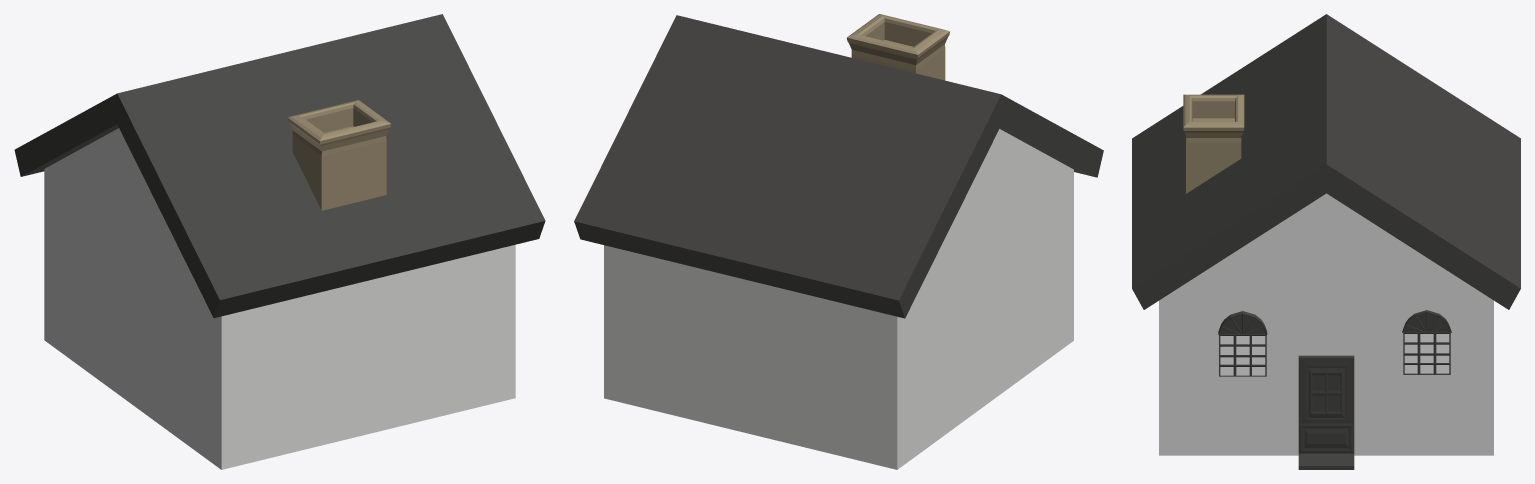
The model's file is House5.fbx.
3 renders of one model, left to right at view 1: azimuth 30°, elevation 25°; view 2: azimuth 150°, elevation 25°; view 3: azimuth 270°, elevation 25°, orthographic. The views are drawn at different scales.
Parts seen in each view (by area): view 1: House.004, Chimney.004; view 2: House.004, Chimney.004; view 3: House.004, door.004, Chimney.004, Window.004, Window2.004, WindowTop.008, WindowTop.009.
Boxes of the visible parts, x1,y1,x2,y2 form: House.004: (14, 14, 545, 469); Chimney.004: (288, 100, 391, 210); House.004: (574, 15, 1103, 469); Chimney.004: (847, 14, 949, 80); House.004: (1132, 14, 1520, 455); door.004: (1298, 355, 1354, 469); Chimney.004: (1183, 94, 1244, 193); Window.004: (1403, 333, 1450, 374); Window2.004: (1219, 335, 1266, 376); WindowTop.008: (1218, 311, 1267, 334); WindowTop.009: (1402, 310, 1451, 332).
Bounding box in the file's own units: 703 × 622 × 734.
